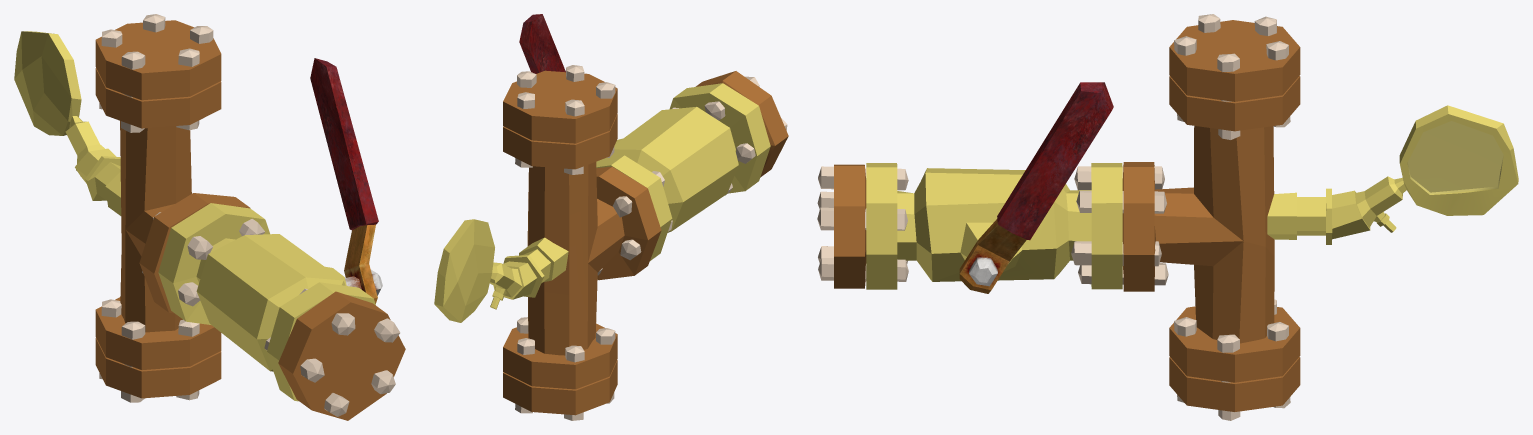
File: PressureUV.fbx
3 views of the same model, side by side, from view 1: azimuth 30°, elevation 25°; view 2: azimuth 150°, elevation 25°; view 3: azimuth 270°, elevation 25° (orthographic). The views are drawn at different scales.
Parts seen in each view (by area): view 1: Pressure_Joint.001, Valve_Gauge.001, Handle; view 2: Pressure_Joint.001, Valve_Gauge.001, Handle; view 3: Pressure_Joint.001, Valve_Gauge.001, Handle.
Part boxes in pixels (x1=…): Pressure_Joint.001: x1=95, y1=14, x2=405, y2=420; Valve_Gauge.001: x1=14, y1=31, x2=375, y2=401; Handle: x1=310, y1=58, x2=382, y2=303; Pressure_Joint.001: x1=503, y1=65, x2=788, y2=420; Valve_Gauge.001: x1=434, y1=83, x2=770, y2=322; Handle: x1=519, y1=14, x2=565, y2=73; Pressure_Joint.001: x1=817, y1=14, x2=1300, y2=420; Valve_Gauge.001: x1=866, y1=105, x2=1518, y2=289; Handle: x1=959, y1=82, x2=1113, y2=293.
Bounding box in the file's own units: 30.31 × 107 × 61.4.
